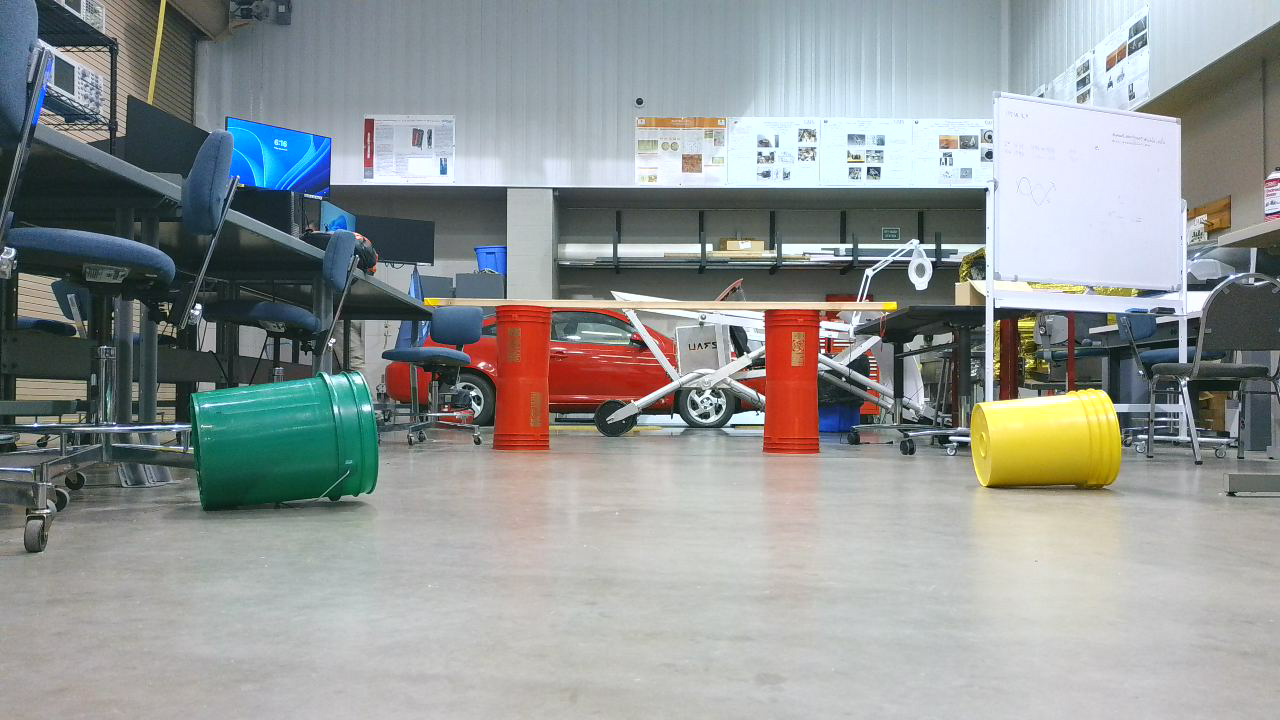green_bucket_barrier: (176, 368, 392, 513)
red_bucket_arch: (486, 293, 852, 474)
yellow_bucket: (967, 387, 1130, 501)
